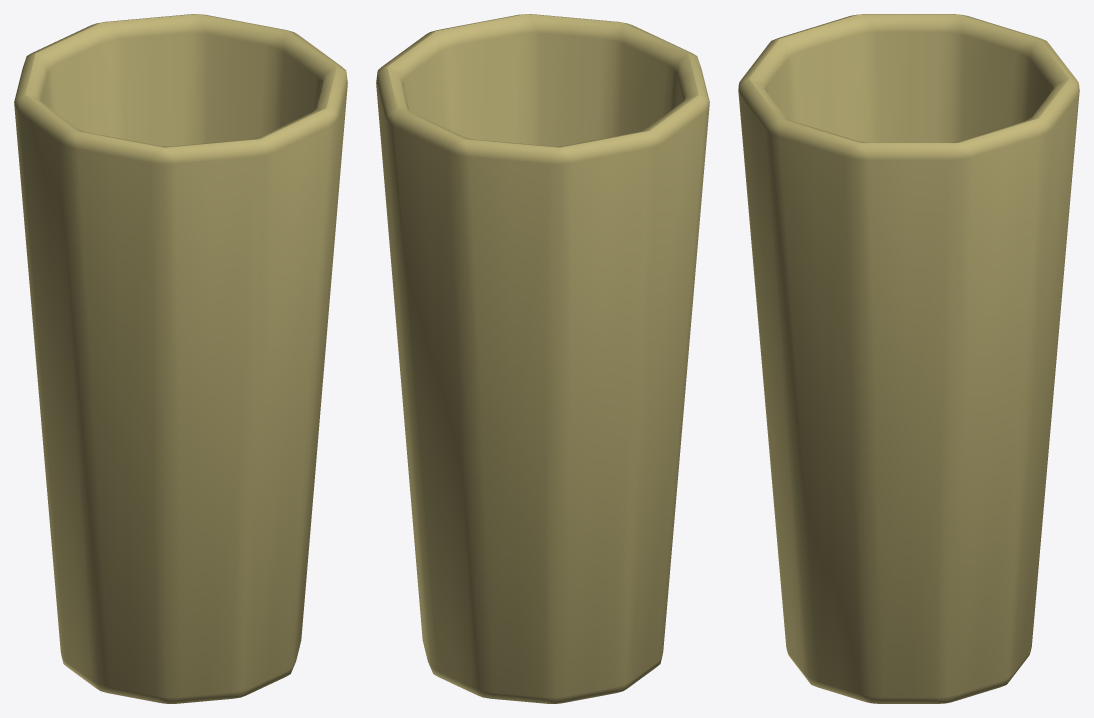
Rendered from Mug_2.fbx.
3 renders of one model, left to right at view 1: azimuth 30°, elevation 25°; view 2: azimuth 150°, elevation 25°; view 3: azimuth 270°, elevation 25°, orthographic.
Visible parts, largest first — view 1: Mug_2.001; view 2: Mug_2.001; view 3: Mug_2.001.
Boxes of the visible parts, box(x1,y1,x2,y2) form: Mug_2.001: box(14, 14, 347, 703); Mug_2.001: box(376, 14, 709, 703); Mug_2.001: box(738, 14, 1079, 703).
Bounding box in the file's own units: 11.23 × 21.85 × 11.65.
